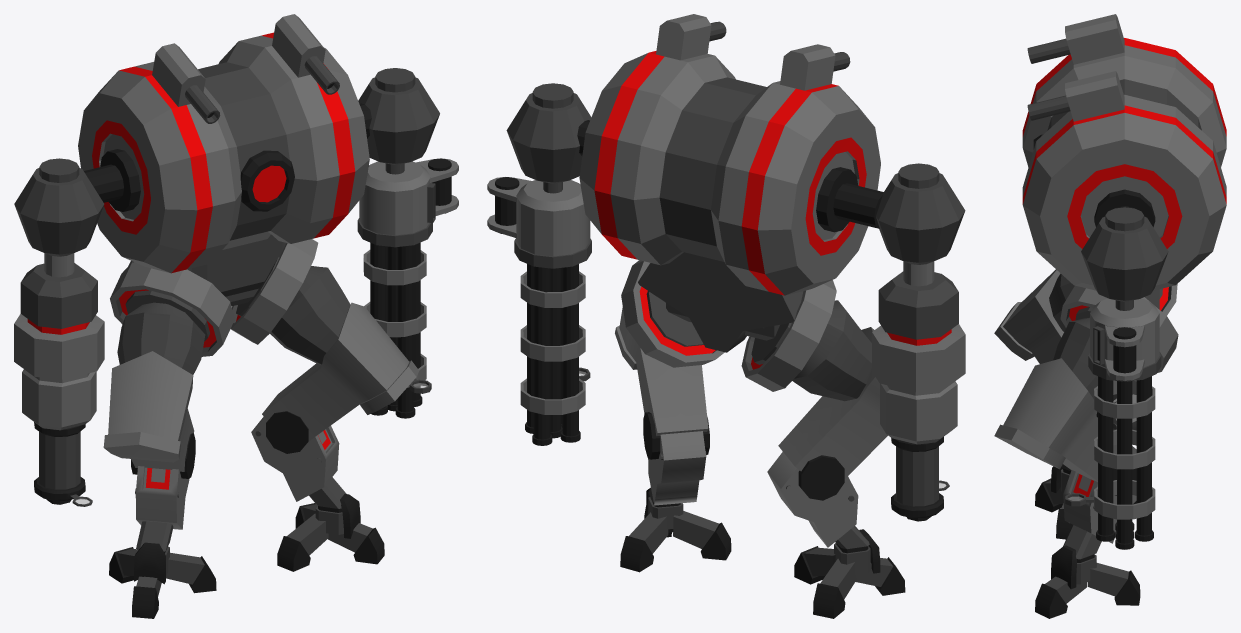
The model's file is mecha.fbx.
3 renders of one model, left to right at view 1: azimuth 30°, elevation 25°; view 2: azimuth 150°, elevation 25°; view 3: azimuth 270°, elevation 25°, orthographic. The views are drawn at different scales.
Parts seen in each view (by area): view 1: bas_du_corps, corps, bras_droit, bras_gauche; view 2: corps, bas_du_corps, bras_droit, bras_gauche; view 3: corps, bas_du_corps, bras_gauche.
Part boxes in pixels (x1=…): bas_du_corps: x1=103, y1=231, x2=418, y2=618; corps: x1=78, y1=14, x2=371, y2=273; bras_droit: x1=14, y1=158, x2=104, y2=506; bras_gauche: x1=357, y1=68, x2=458, y2=418; corps: x1=577, y1=14, x2=883, y2=295; bas_du_corps: x1=615, y1=252, x2=905, y2=618; bras_droit: x1=872, y1=163, x2=965, y2=521; bras_gauche: x1=487, y1=83, x2=591, y2=445; corps: x1=1022, y1=14, x2=1226, y2=290; bas_du_corps: x1=994, y1=269, x2=1178, y2=618; bras_gauche: x1=1065, y1=207, x2=1168, y2=549.
Bounding box in the file's own units: 3.37 × 3.83 × 1.57.
